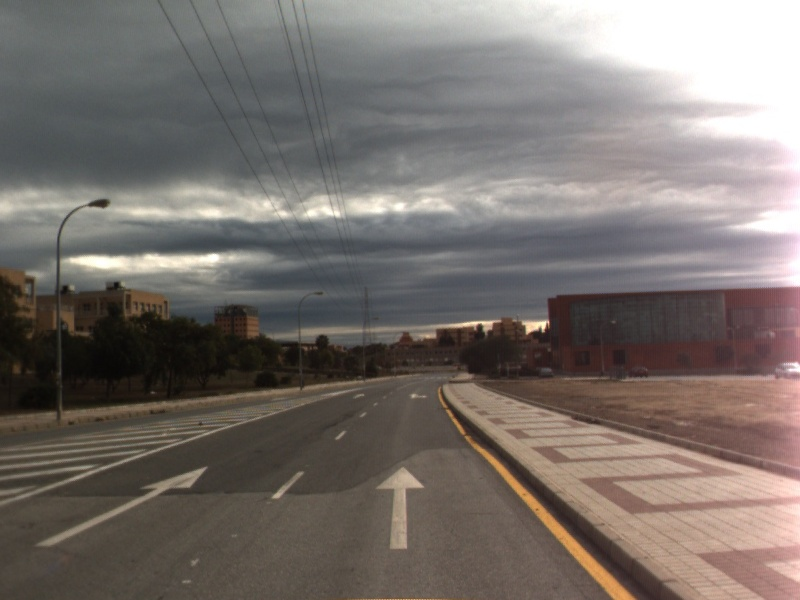STRAIGHT: (31, 464, 211, 549), (373, 465, 427, 551)
STRAIGHT_RIGHT: (407, 392, 429, 400)
